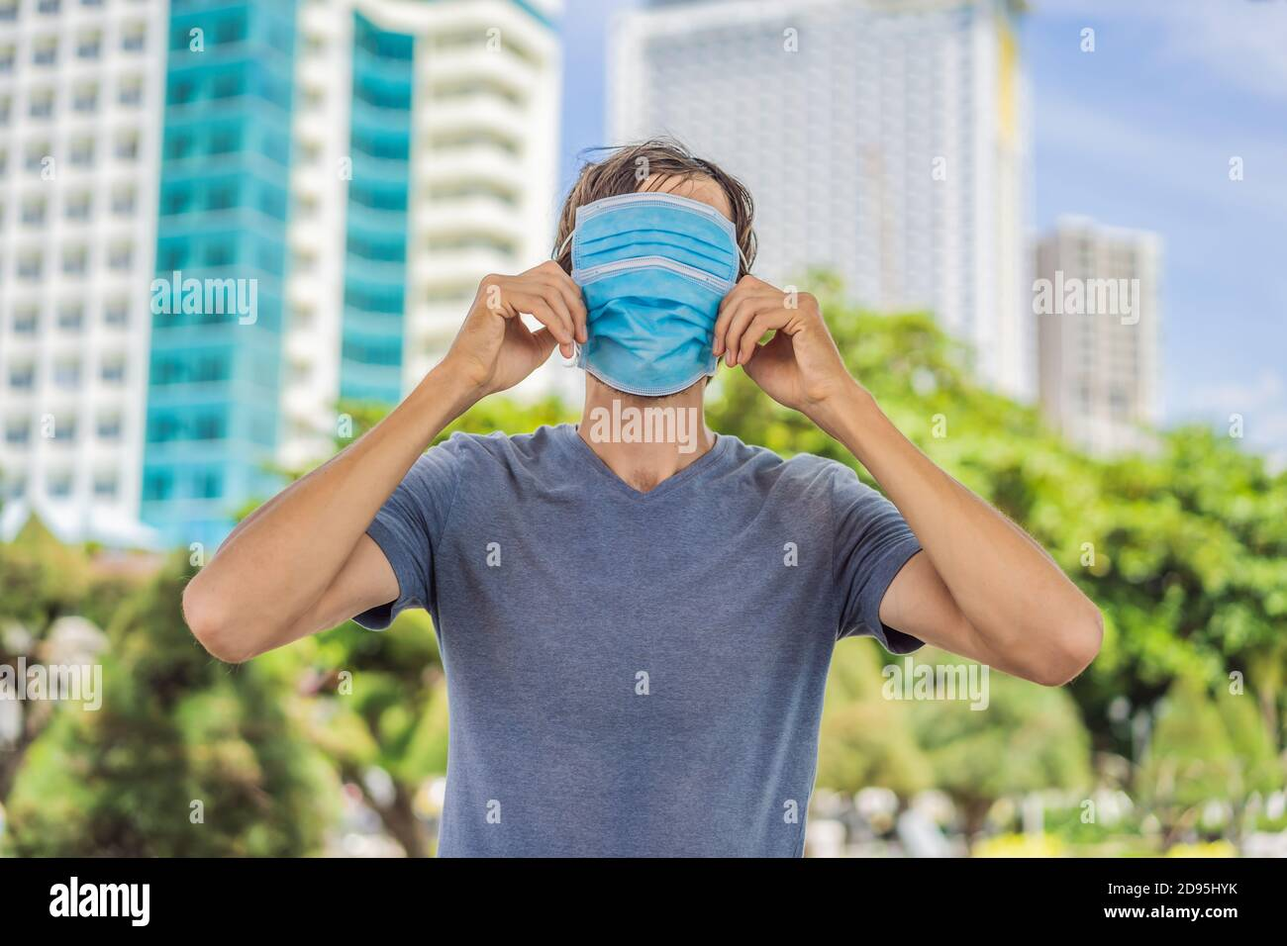mask_weared_incorrect: (553, 146, 755, 398)
